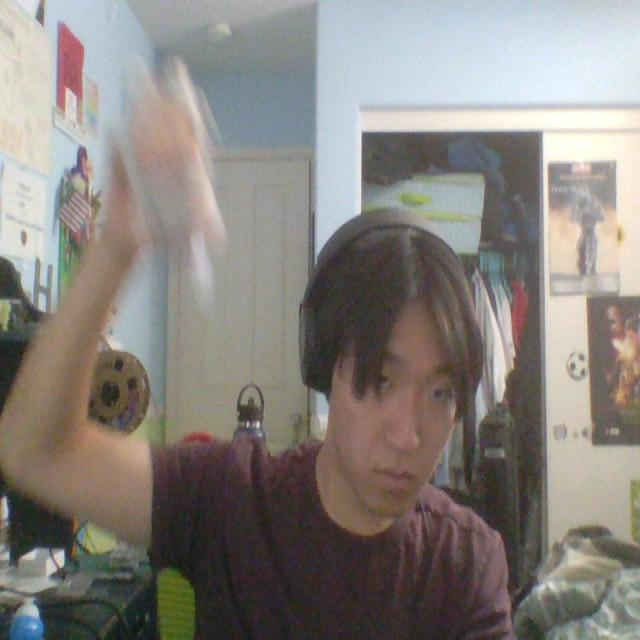labubu: (128, 60, 225, 305)
